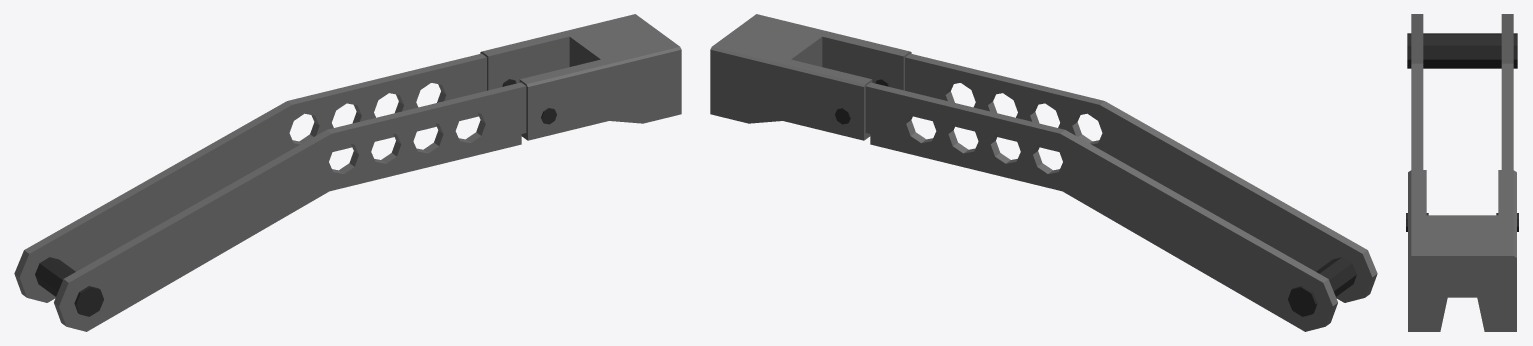
File: Shotgun5_02_2.fbx
3 views of the same model, side by side, from view 1: azimuth 30°, elevation 25°; view 2: azimuth 150°, elevation 25°; view 3: azimuth 270°, elevation 25° (orthographic). The views are drawn at different scales.
Parts seen in each view (by area): view 1: Shotgun5_02_2; view 2: Shotgun5_02_2; view 3: Shotgun5_02_2.
Part boxes in pixels (<box>): Shotgun5_02_2: <box>14,14,681,331</box>; Shotgun5_02_2: <box>710,14,1377,331</box>; Shotgun5_02_2: <box>1406,14,1518,331</box>.
Bounding box in the file's own units: 0.4016 × 0.0868 × 0.0553.
